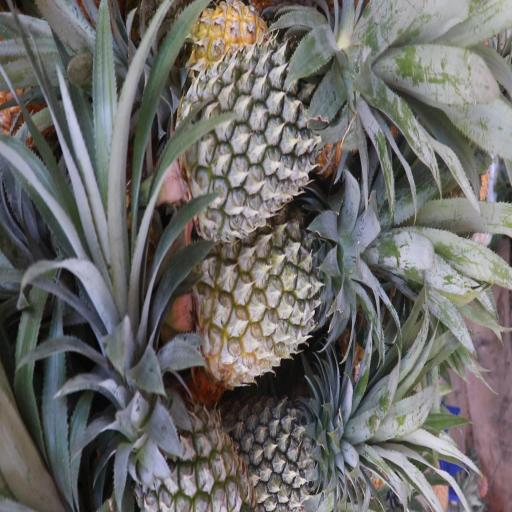------------------------------: (193, 229, 333, 379), (138, 389, 248, 512)
